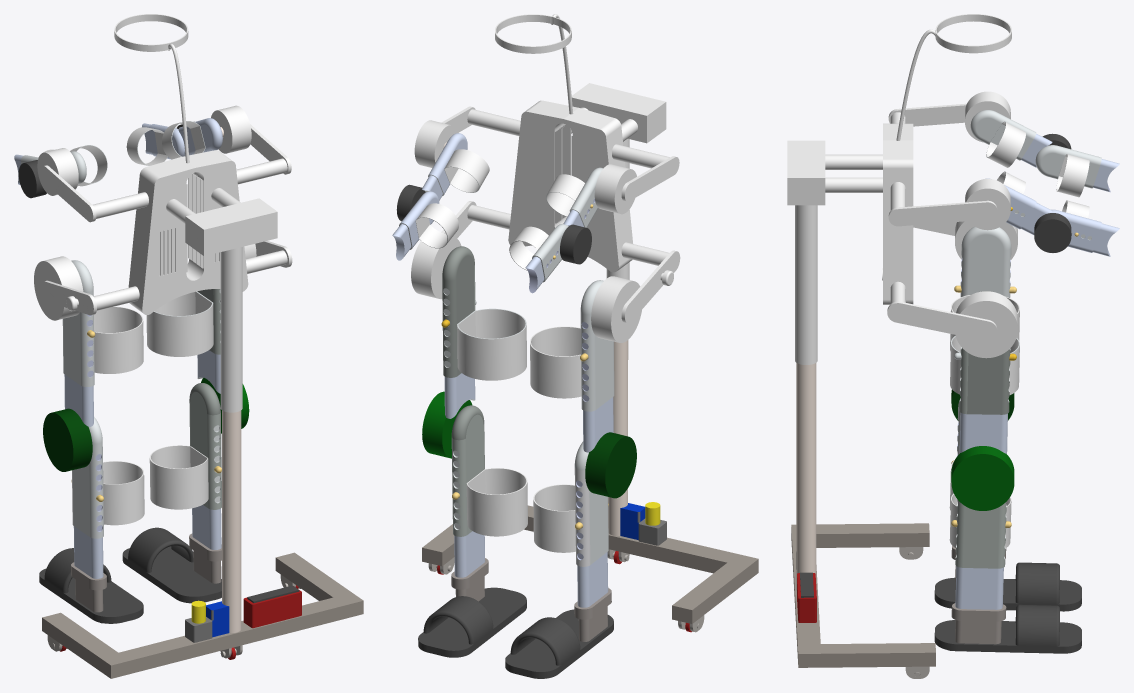
3 renders of one model, left to right at view 1: azimuth 30°, elevation 25°; view 2: azimuth 150°, elevation 25°; view 3: azimuth 270°, elevation 25°, orthographic. The views are drawn at different scales.
Size of the model in its own units: 0.808 by 1.71 by 0.869.
